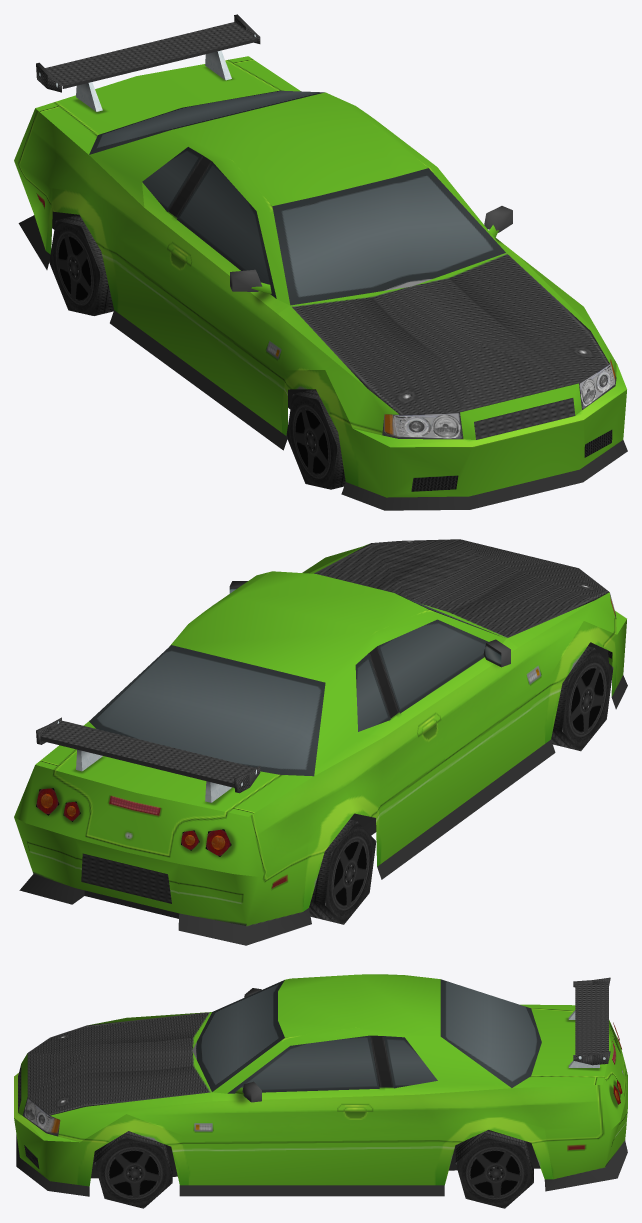
The model's file is StreetHighEndVehicle_LOD2.fbx.
The picture shows the model from 3 angles, top to bottom: view 1: azimuth 30°, elevation 25°; view 2: azimuth 150°, elevation 25°; view 3: azimuth 270°, elevation 25°; orthographic projection. The views are drawn at different scales.
Visible parts, largest first — view 1: Chassis, RR_WHeel, RF_Wheel; view 2: Chassis, RR_WHeel, RF_Wheel; view 3: Chassis, LR_Wheel, LF_Wheel.
Part boxes in pixels (x1,y1,x2,y2): Chassis: (14, 14, 627, 510); RR_WHeel: (49, 215, 113, 315); RF_Wheel: (286, 389, 345, 489); Chassis: (14, 539, 627, 945); RR_WHeel: (309, 819, 376, 924); RF_Wheel: (551, 646, 613, 751); Chassis: (14, 974, 627, 1196); LR_Wheel: (455, 1130, 533, 1208); LF_Wheel: (94, 1131, 172, 1208).
Size of the model in its own units: 2.09 by 1.46 by 5.22.
2 materials, 2 textured.
